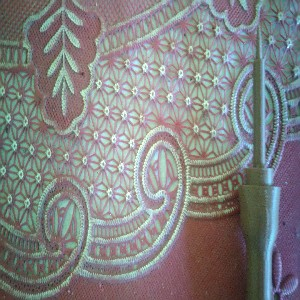solder: (237, 23, 282, 300)
